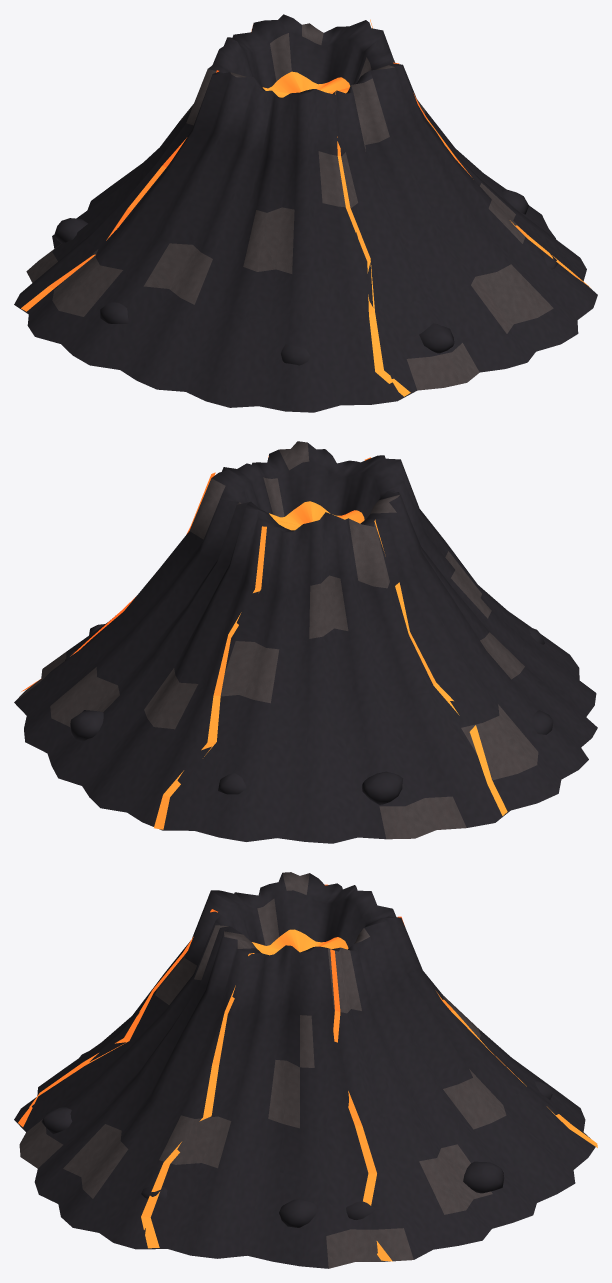
Rendered from volcano.glb.
3 views of the same model, one above another, from view 1: azimuth 30°, elevation 25°; view 2: azimuth 150°, elevation 25°; view 3: azimuth 270°, elevation 25° (orthographic).
Parts seen in each view (by area): view 1: Eroded caldera, Surface MoltenRock, Surface Basalt; view 2: Eroded caldera, Surface MoltenRock, Surface Basalt; view 3: Eroded caldera, Surface MoltenRock, Surface Basalt.
Boxes of the visible parts, x1,y1,x2,y2 form: Eroded caldera: (14,14,597,412); Surface MoltenRock: (21,19,590,396); Surface Basalt: (54,188,557,365); Eroded caldera: (14,441,597,843); Surface MoltenRock: (21,456,507,829); Surface Basalt: (65,624,553,804); Eroded caldera: (14,872,595,1268); Surface MoltenRock: (18,884,597,1261); Surface Basalt: (41,1051,552,1227).
Bounding box in the file's own units: 26.97 × 12.17 × 26.81.
3 materials, 2 textured.
